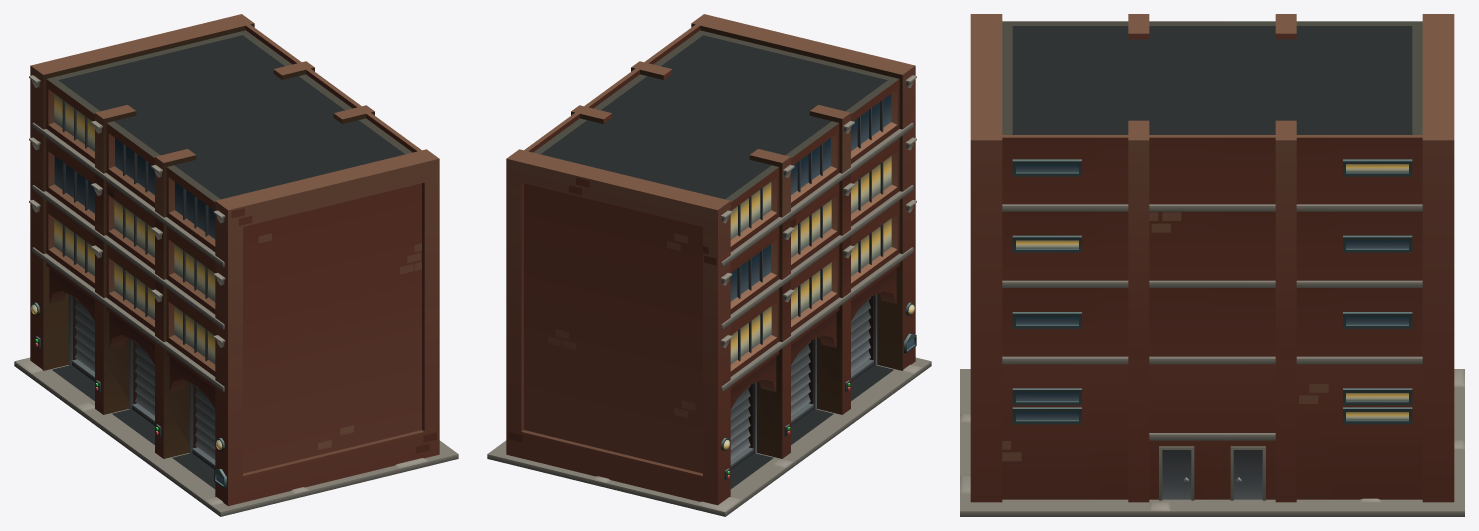
Rendered from Building_15A.fbx.
3 views of the same model, side by side, from view 1: azimuth 30°, elevation 25°; view 2: azimuth 150°, elevation 25°; view 3: azimuth 270°, elevation 25° (orthographic). The views are drawn at different scales.
Visible parts, largest first — view 1: Building_15A, Window_Lights_15A, Addon_Gate_15A.R, Addon_Gate_15A.L, Addon_Gate_15A.M; view 2: Building_15A, Window_Lights_15A, Addon_Gate_15A.L, Addon_Gate_15A.R, Addon_Gate_15A.M; view 3: Building_15A, Window_Lights_15A.
Part boxes in pixels (bbox=[...]): Building_15A: bbox=[14, 14, 458, 516]; Window_Lights_15A: bbox=[54, 93, 215, 364]; Addon_Gate_15A.R: bbox=[192, 385, 215, 469]; Addon_Gate_15A.L: bbox=[72, 297, 94, 381]; Addon_Gate_15A.M: bbox=[132, 341, 154, 425]; Building_15A: bbox=[487, 14, 931, 516]; Window_Lights_15A: bbox=[730, 156, 891, 364]; Addon_Gate_15A.L: bbox=[730, 385, 753, 469]; Addon_Gate_15A.R: bbox=[851, 297, 873, 381]; Addon_Gate_15A.M: bbox=[791, 341, 813, 425]; Building_15A: bbox=[960, 14, 1464, 516]; Window_Lights_15A: bbox=[1016, 164, 1408, 420].
Size of the model in its own units: 1600 by 1930 by 2400.
